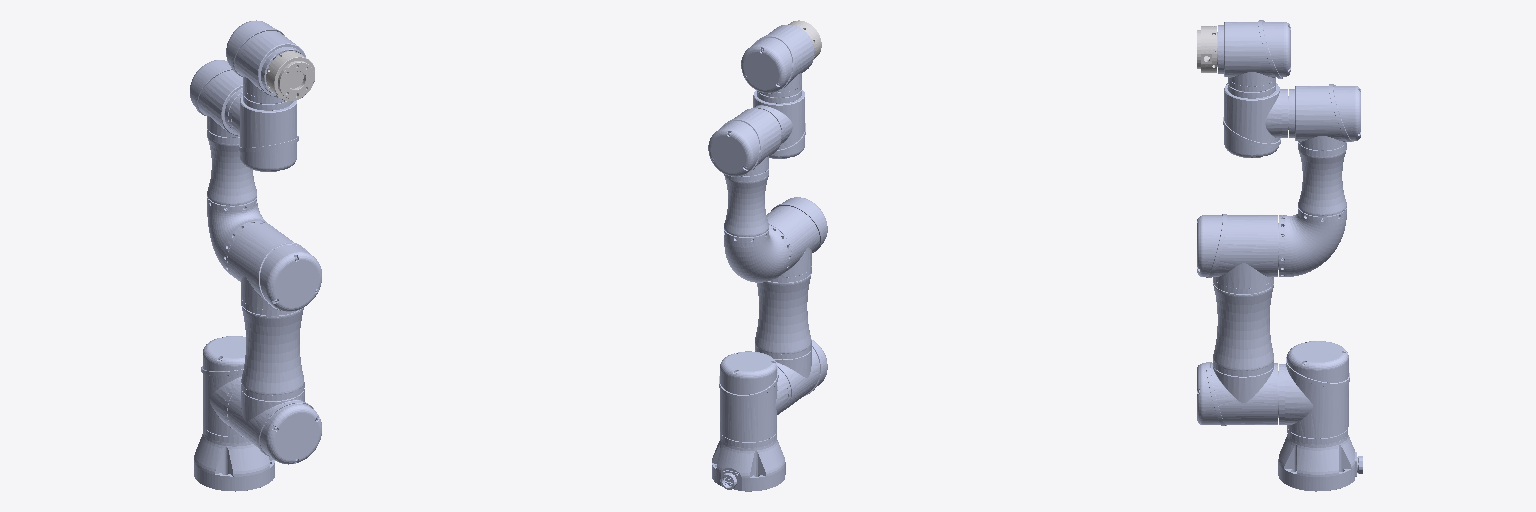
robot.urdf — rocr6_description:
<?xml version="1.0" encoding="utf-8"?>
<!-- This URDF was automatically created by SolidWorks to URDF Exporter! Originally created by [author] ([email redacted]) 
     Commit Version: 1.5.1-0-g916b5db  Build Version: 1.5.7152.31018
     For more information, please see http://wiki.ros.org/sw_urdf_exporter -->
<robot
  name="rocr6_description">
  <link
    name="base_link">
    <inertial>
      <origin
        xyz="5.2457E-05 0.00029238 0.032631"
        rpy="0 0 0" />
      <mass
        value="0.55222" />
      <inertia
        ixx="0.00088318"
        ixy="8.5071E-08"
        ixz="-2.1528E-07"
        iyy="0.00091817"
        iyz="-9.8095E-06"
        izz="0.0012568" />
    </inertial>
    <visual>
      <origin
        xyz="0 0 0"
        rpy="0 0 0" />
      <geometry>
        <mesh
          filename="package://rocr6_description/meshes/base_link.STL" />
      </geometry>
      <material
        name="">
        <color
          rgba="0.79216 0.81961 0.93333 1" />
      </material>
    </visual>
    <collision>
      <origin
        xyz="0 0 0"
        rpy="0 0 0" />
      <geometry>
        <mesh
          filename="package://rocr6_description/meshes/base_link.STL" />
      </geometry>
    </collision>
  </link>
  <link
    name="link1">
    <inertial>
      <origin
        xyz="-5.6107E-06 -0.0096745 0.055302"
        rpy="0 0 0" />
      <mass
        value="0.39053" />
      <inertia
        ixx="0.00057949"
        ixy="8.1622E-08"
        ixz="1.1435E-08"
        iyy="0.00057332"
        iyz="3.7498E-05"
        izz="0.000767" />
    </inertial>
    <visual>
      <origin
        xyz="0 0 0"
        rpy="0 0 0" />
      <geometry>
        <mesh
          filename="package://rocr6_description/meshes/link1.STL" />
      </geometry>
      <material
        name="">
        <color
          rgba="0.79216 0.81961 0.93333 1" />
      </material>
    </visual>
    <collision>
      <origin
        xyz="0 0 0"
        rpy="0 0 0" />
      <geometry>
        <mesh
          filename="package://rocr6_description/meshes/link1.STL" />
      </geometry>
    </collision>
  </link>
  <joint
    name="joint1"
    type="revolute">
    <origin
      xyz="6.6537E-05 0.00042955 0.08205"
      rpy="0 0 0" />
    <parent
      link="base_link" />
    <child
      link="link1" />
    <axis
      xyz="0 0 1" />
    <limit
      lower="-3.14"
      upper="3.14"
      effort="150"
      velocity="3.2" />
  </joint>
  <link
    name="link2">
    <inertial>
      <origin
        xyz="1.7326E-13 -0.057367 0.13201"
        rpy="0 0 0" />
      <mass
        value="1.0634" />
      <inertia
        ixx="0.0021253"
        ixy="3.6446E-13"
        ixz="1.6324E-07"
        iyy="0.0025003"
        iyz="5.4629E-15"
        izz="0.0016353" />
    </inertial>
    <visual>
      <origin
        xyz="0 0 0"
        rpy="0 0 0" />
      <geometry>
        <mesh
          filename="package://rocr6_description/meshes/link2.STL" />
      </geometry>
      <material
        name="">
        <color
          rgba="0.79216 0.81961 0.93333 1" />
      </material>
    </visual>
    <collision>
      <origin
        xyz="0 0 0"
        rpy="0 0 0" />
      <geometry>
        <mesh
          filename="package://rocr6_description/meshes/link2.STL" />
      </geometry>
    </collision>
  </link>
  <joint
    name="joint2"
    type="revolute">
    <origin
      xyz="0 -0.05775 0.06195"
      rpy="0 0 0" />
    <parent
      link="link1" />
    <child
      link="link2" />
    <axis
      xyz="0 -1 0" />
    <limit
      lower="-3.14"
      upper="3.14"
      effort="150"
      velocity="3.2" />
  </joint>
  <link
    name="link3">
    <inertial>
      <origin
        xyz="2.8296E-07 0.10648 -0.055036"
        rpy="0 0 0" />
      <mass
        value="0.60237" />
      <inertia
        ixx="0.0010998"
        ixy="-9.029E-09"
        ixz="5.4949E-09"
        iyy="0.00083242"
        iyz="5.0826E-05"
        izz="0.0011403" />
    </inertial>
    <visual>
      <origin
        xyz="0 0 0"
        rpy="0 0 0" />
      <geometry>
        <mesh
          filename="package://rocr6_description/meshes/link3.STL" />
      </geometry>
      <material
        name="">
        <color
          rgba="0.79216 0.81961 0.93333 1" />
      </material>
    </visual>
    <collision>
      <origin
        xyz="0 0 0"
        rpy="0 0 0" />
      <geometry>
        <mesh
          filename="package://rocr6_description/meshes/link3.STL" />
      </geometry>
    </collision>
  </link>
  <joint
    name="joint3"
    type="revolute">
    <origin
      xyz="0 -0.00043165 0.264"
      rpy="1.5708 0 0" />
    <parent
      link="link2" />
    <child
      link="link3" />
    <axis
      xyz="0 0 1" />
    <limit
      lower="-3.14"
      upper="3.14"
      effort="150"
      velocity="3.2" />
  </joint>
  <link
    name="link4">
    <inertial>
      <origin
        xyz="2.8519E-07 -0.052441 0.0067616"
        rpy="0 0 0" />
      <mass
        value="0.17474" />
      <inertia
        ixx="0.0002242"
        ixy="5.9814E-11"
        ixz="1.8015E-09"
        iyy="0.00021561"
        iyz="3.3297E-05"
        izz="0.00027423" />
    </inertial>
    <visual>
      <origin
        xyz="0 0 0"
        rpy="0 0 0" />
      <geometry>
        <mesh
          filename="package://rocr6_description/meshes/link4.STL" />
      </geometry>
      <material
        name="">
        <color
          rgba="0.79216 0.81961 0.93333 1" />
      </material>
    </visual>
    <collision>
      <origin
        xyz="0 0 0"
        rpy="0 0 0" />
      <geometry>
        <mesh
          filename="package://rocr6_description/meshes/link4.STL" />
      </geometry>
    </collision>
  </link>
  <joint
    name="joint4"
    type="revolute">
    <origin
      xyz="0 0.237 -0.015882"
      rpy="-1.5708 0 0" />
    <parent
      link="link3" />
    <child
      link="link4" />
    <axis
      xyz="0 1 0" />
    <limit
      lower="-3.14"
      upper="3.14"
      effort="80"
      velocity="1.5" />
  </joint>
  <link
    name="link5">
    <inertial>
      <origin
        xyz="-2.8519E-07 -0.0067616 0.052441"
        rpy="0 0 0" />
      <mass
        value="0.17474" />
      <inertia
        ixx="0.0002242"
        ixy="1.8015E-09"
        ixz="5.9814E-11"
        iyy="0.00027423"
        iyz="3.3297E-05"
        izz="0.00021561" />
    </inertial>
    <visual>
      <origin
        xyz="0 0 0"
        rpy="0 0 0" />
      <geometry>
        <mesh
          filename="package://rocr6_description/meshes/link5.STL" />
      </geometry>
      <material
        name="">
        <color
          rgba="0.79216 0.81961 0.93333 1" />
      </material>
    </visual>
    <collision>
      <origin
        xyz="0 0 0"
        rpy="0 0 0" />
      <geometry>
        <mesh
          filename="package://rocr6_description/meshes/link5.STL" />
      </geometry>
    </collision>
  </link>
  <joint
    name="joint5"
    type="revolute">
    <origin
      xyz="0 -0.0642 0.0498"
      rpy="0 0 0" />
    <parent
      link="link4" />
    <child
      link="link5" />
    <axis
      xyz="0 0 -1" />
    <limit
      lower="-3.14"
      upper="3.14"
      effort="80"
      velocity="1.5" />
  </joint>
  <link
    name="link6">
    <inertial>
      <origin
        xyz="-0.00040806 -0.026005 2.3021E-05"
        rpy="0 0 0" />
      <mass
        value="0.17591" />
      <inertia
        ixx="9.4853E-05"
        ixy="1.8268E-07"
        ixz="-1.6342E-09"
        iyy="0.00015924"
        iyz="4.5335E-08"
        izz="9.2958E-05" />
    </inertial>
    <visual>
      <origin
        xyz="0 0 0"
        rpy="0 0 0" />
      <geometry>
        <mesh
          filename="package://rocr6_description/meshes/link6.STL" />
      </geometry>
      <material
        name="">
        <color
          rgba="0.86667 0.86667 0.8902 1" />
      </material>
    </visual>
    <collision>
      <origin
        xyz="0 0 0"
        rpy="0 0 0" />
      <geometry>
        <mesh
          filename="package://rocr6_description/meshes/link6.STL" />
      </geometry>
    </collision>
  </link>
  <joint
    name="joint6"
    type="revolute">
    <origin
      xyz="0 -0.0498 0.0642"
      rpy="0 0 0" />
    <parent
      link="link5" />
    <child
      link="link6" />
    <axis
      xyz="0 1 0" />
    <limit
      lower="-3.14"
      upper="3.14"
      effort="80"
      velocity="1.5" />
  </joint>
</robot>

--- What the picture shows (computed from the rendered views, not written in the file) ---
3 views of the same robot in one strip: view 1: azimuth 30°, elevation 25°; view 2: azimuth 150°, elevation 25°; view 3: azimuth 270°, elevation 25° (orthographic).
Model rocr6_description with 7 links and 6 joints (6 revolute), rooted at base_link, posed all joints at 0.
Visible links, largest first — view 1: link2, link3, link4, base_link, link5, link1, link6; view 2: link3, link2, link1, link5, base_link, link4; view 3: link2, link3, link1, link5, link4, base_link, link6.
Boxes of the visible links, <box> form: link2: <box>227,224,321,464</box>; link3: <box>190,60,272,275</box>; link4: <box>228,93,298,171</box>; base_link: <box>194,426,274,491</box>; link5: <box>226,20,305,103</box>; link1: <box>201,336,245,436</box>; link6: <box>266,51,314,100</box>; link3: <box>708,108,791,282</box>; link2: <box>755,197,827,409</box>; link1: <box>719,351,790,441</box>; link5: <box>741,25,814,96</box>; base_link: <box>712,432,785,491</box>; link4: <box>753,90,805,158</box>; link2: <box>1197,214,1283,425</box>; link3: <box>1279,84,1360,276</box>; link1: <box>1279,341,1349,438</box>; link5: <box>1213,20,1290,91</box>; link4: <box>1223,83,1287,157</box>; base_link: <box>1278,428,1362,491</box>; link6: <box>1197,26,1216,72</box>.
Bounding box of the posed robot: 0.1279 × 0.2695 × 0.806 m (x, y, z).
7 mesh visuals loaded from 7 distinct referenced files (7 binary STL).
